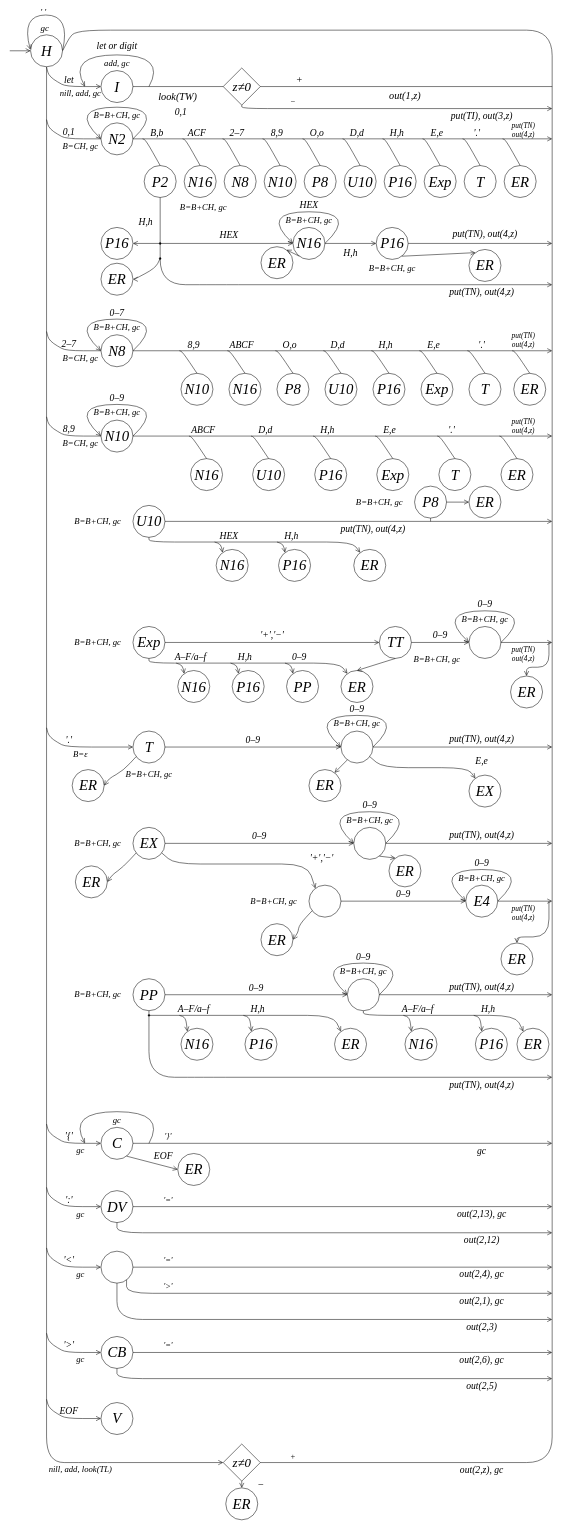
The diagram is 563 pixels wide and 1525 high, and some of its shapes have lost their labels. Here are the shapes that lost their labels. From the top down, the centre of each, then its label:
(x=485, y=642): Mn
(x=357, y=747): E1
(x=369, y=843): E2
(x=325, y=901): E3
(x=363, y=994): NK
(x=117, y=1267): CM
